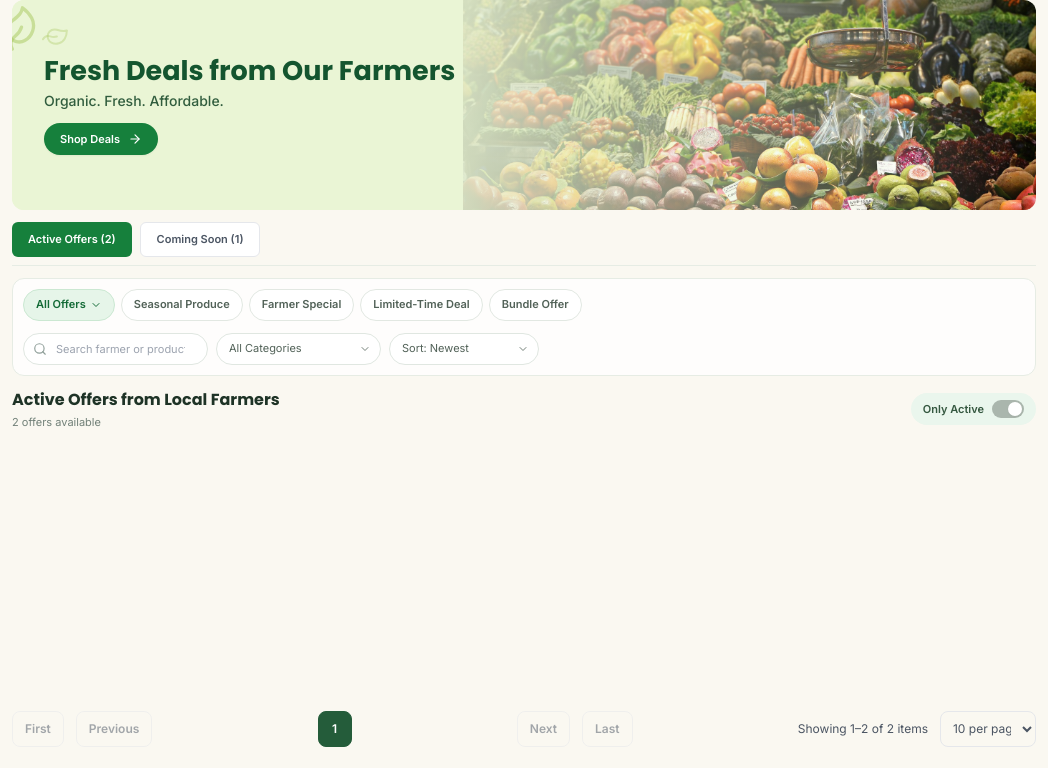
Test: Customer Offers › search and category filtering work together with Only Active
Click the switch labelled "Only Active" at (973, 409), box [911,393,1036,425]
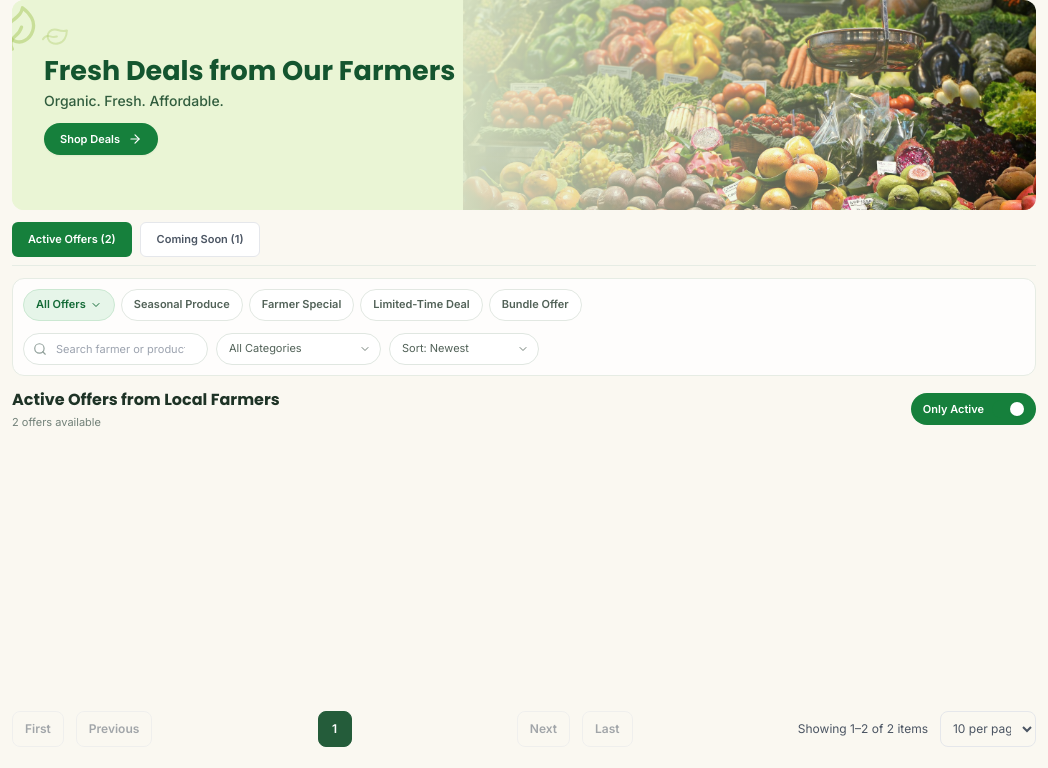
Type "Mango" into the search field named "Search offers" at (116, 348), box [23,332,208,364]
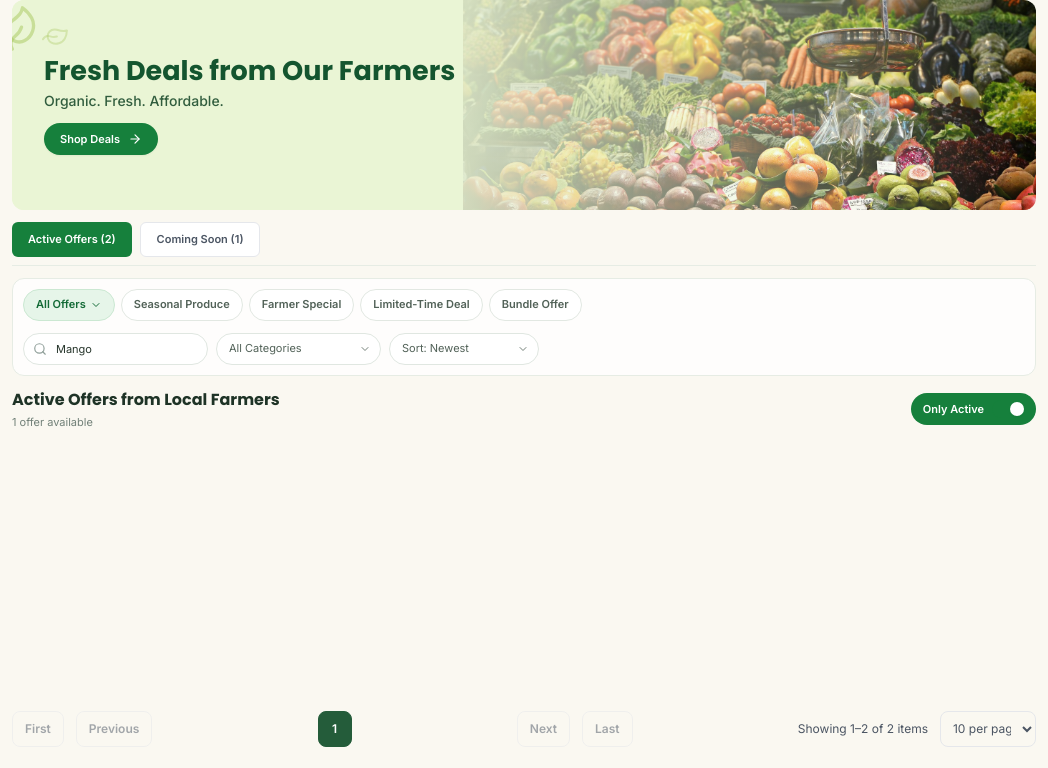
Expected: the text "Organic Tomatoes" is not shown
Clear the search field named "Search offers" at (116, 348), box [23,332,208,364]
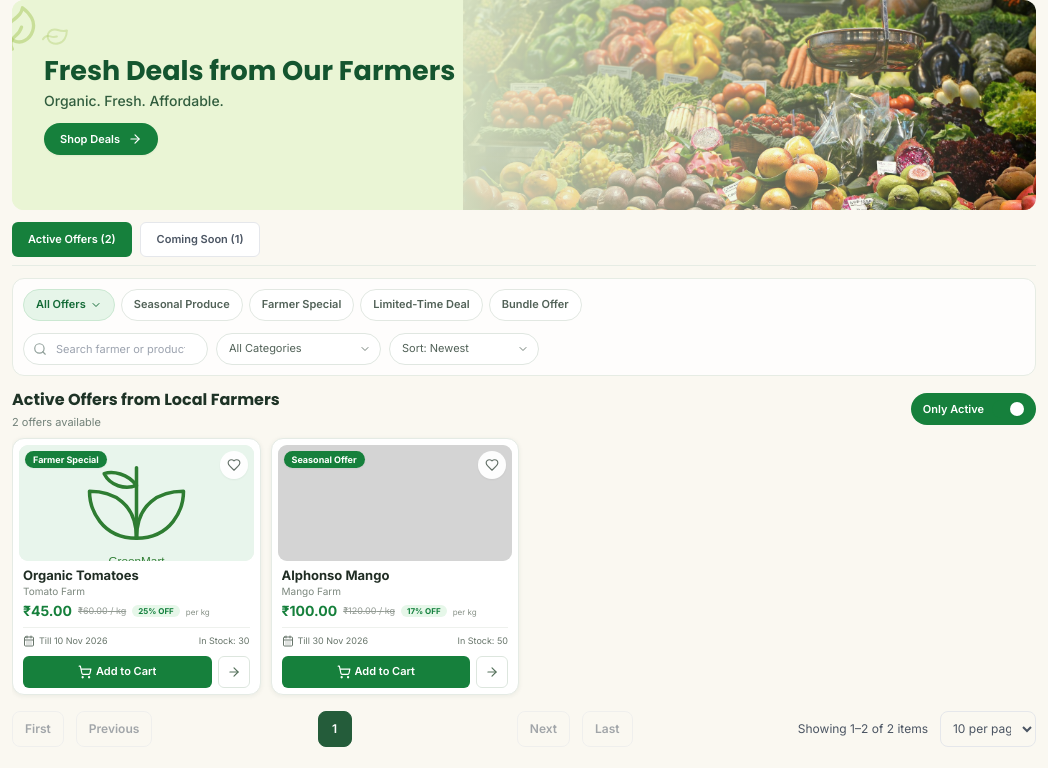
Expected: the link "Alphonso Mango" is shown, [282,567,389,583]
Expected: the link "Organic Tomatoes" is shown, [23,567,139,583]
